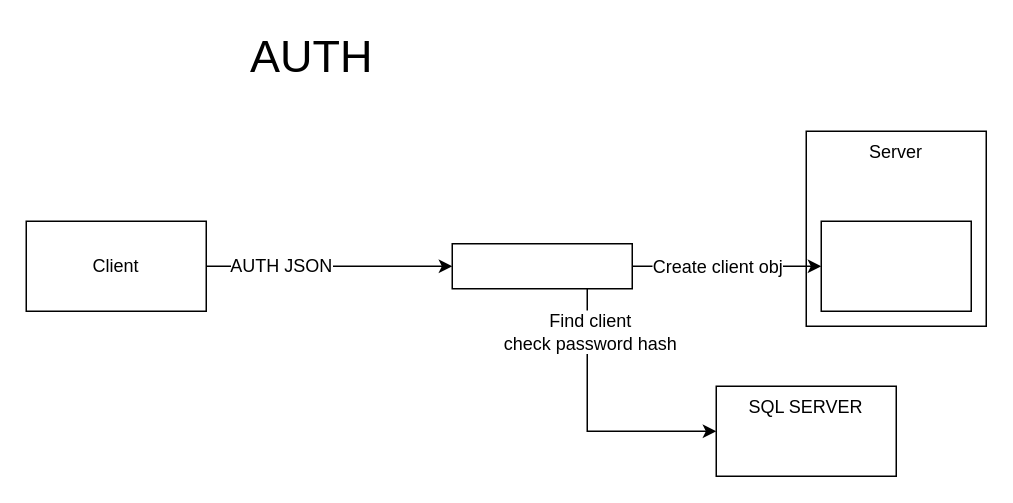
The diagram is 1013 pixels wide and 503 high, and some of its shapes have lost their labels. The centre of each missing label's shape, as x and y in pixels:
Client store: point (895, 265)
Client thread 1: point (541, 265)
